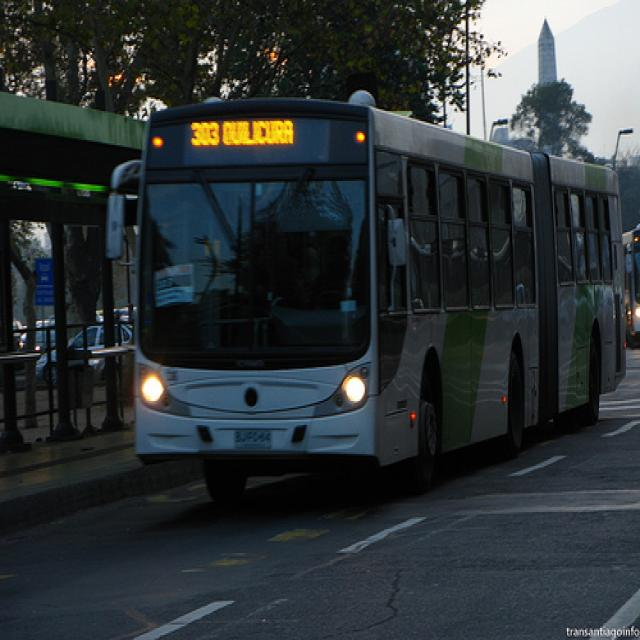bus: (104, 87, 626, 509)
